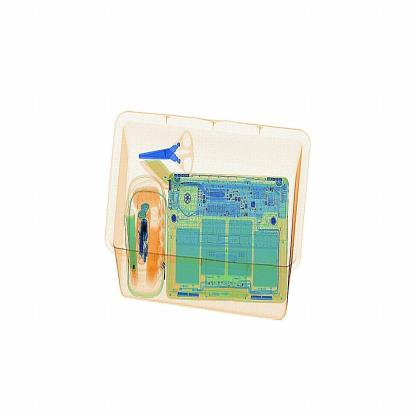gun: (130, 131, 203, 176)
